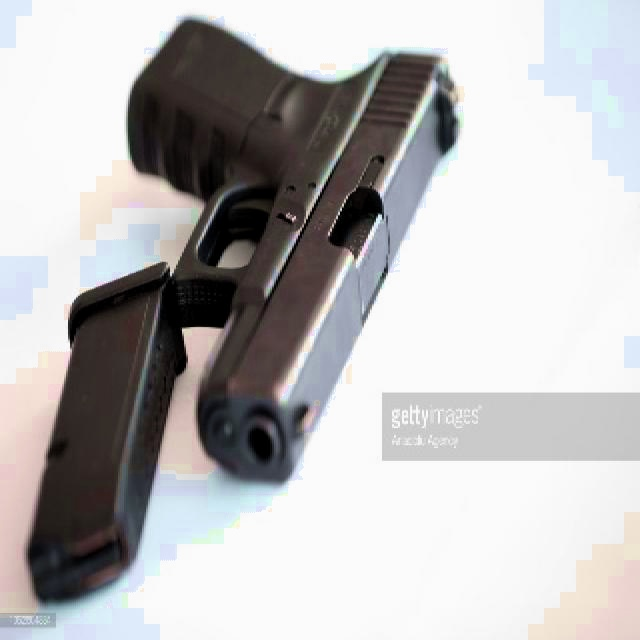gun: (114, 9, 460, 481)
